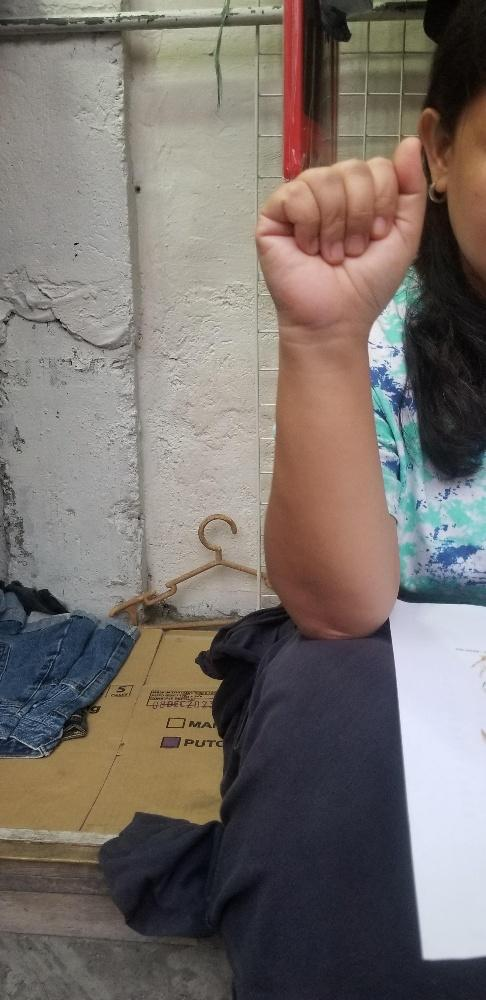a: (253, 134, 426, 322)
